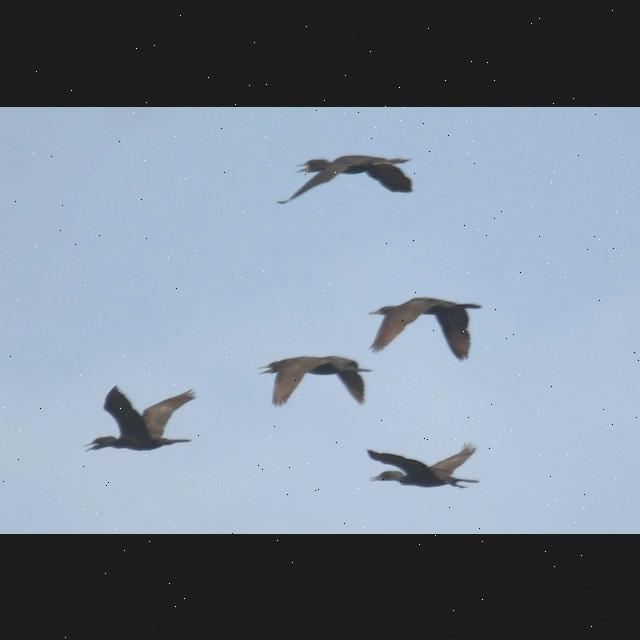cormorant: (81, 384, 200, 454), (366, 296, 486, 364), (274, 154, 416, 208), (253, 354, 373, 408), (364, 446, 478, 490)
